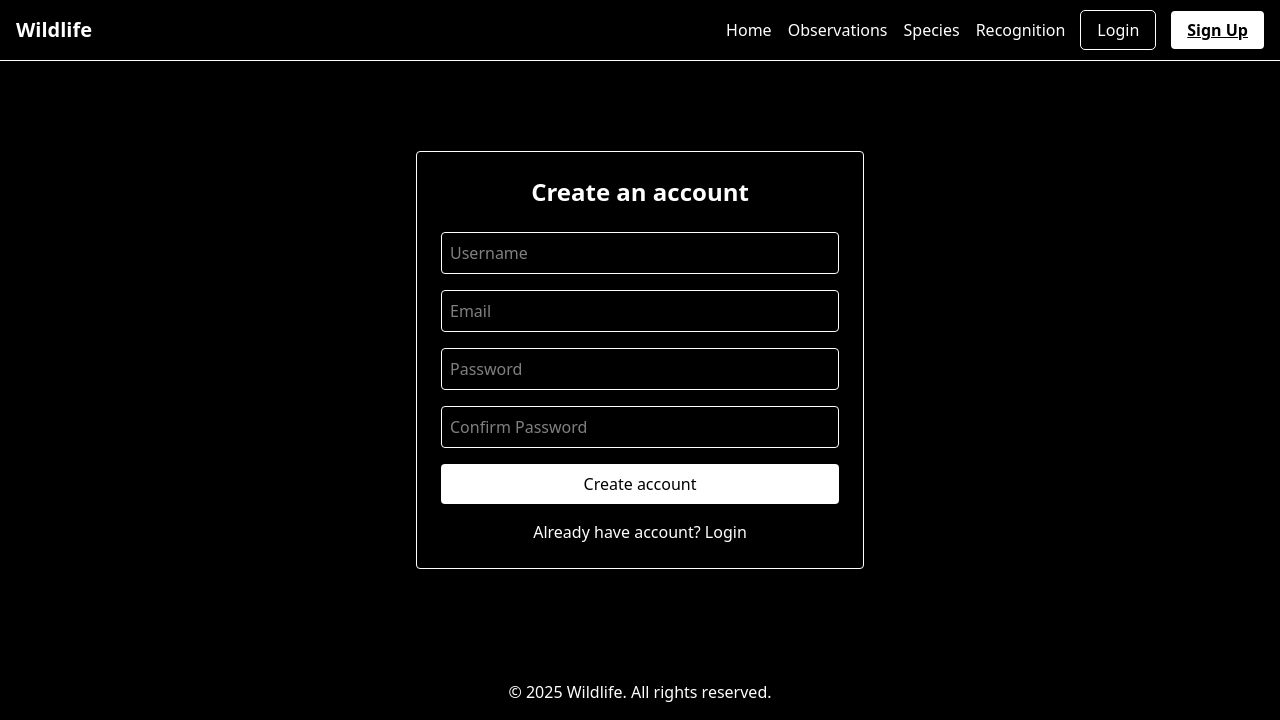
SignUp Page › validates required fields
Try to submit empty form
Click the button with test id "signup-button". click: (640, 484)
box: [441,464,839,504]
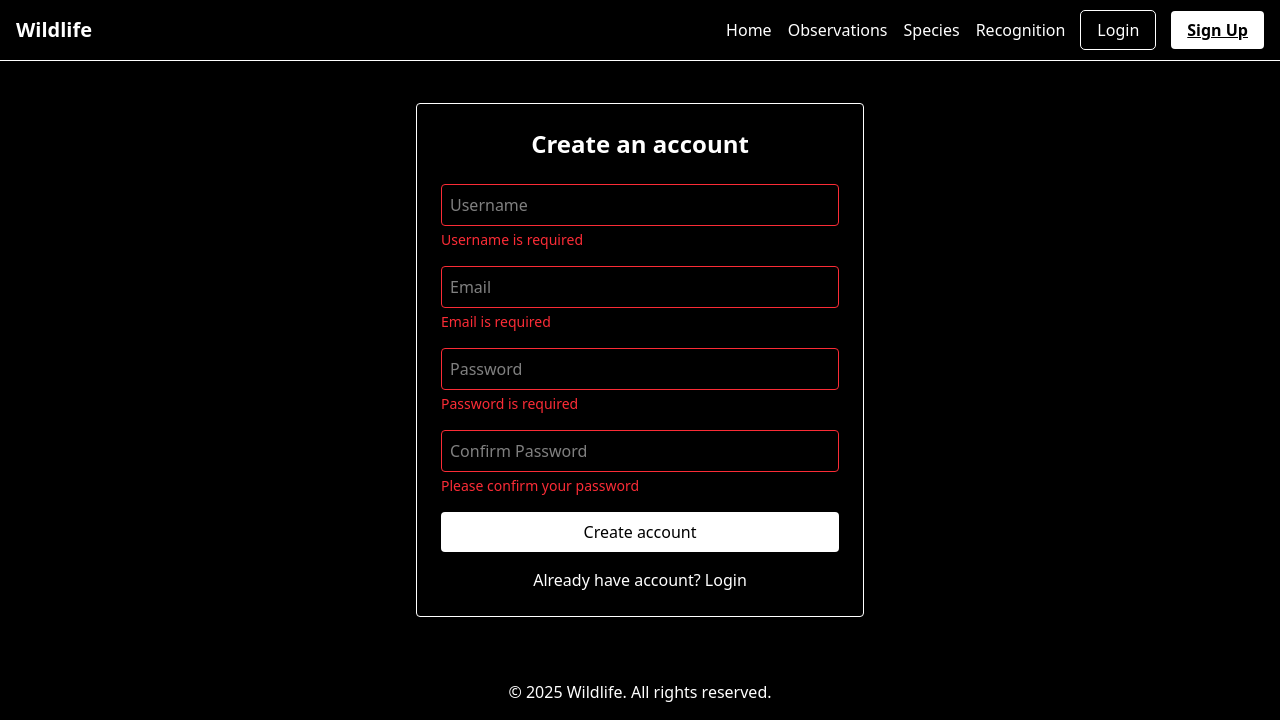
Now the text with test id "username-error" reads "Username is required", box [441,230,583,249]
Now the text with test id "email-error" reads "Email is required", box [441,312,551,331]
Now the text with test id "password-error" reads "Password is required", box [441,394,578,413]
